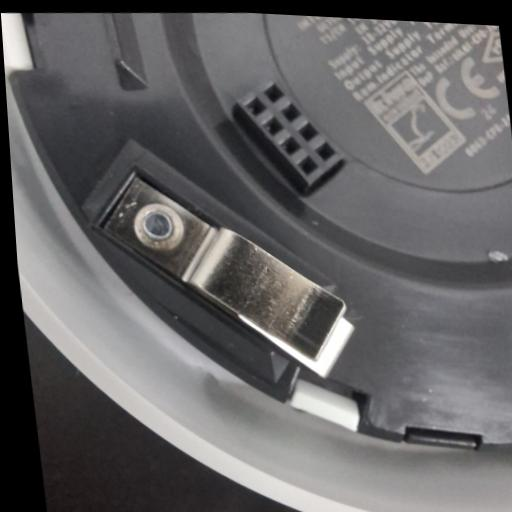yayli: (85, 158, 355, 387)
